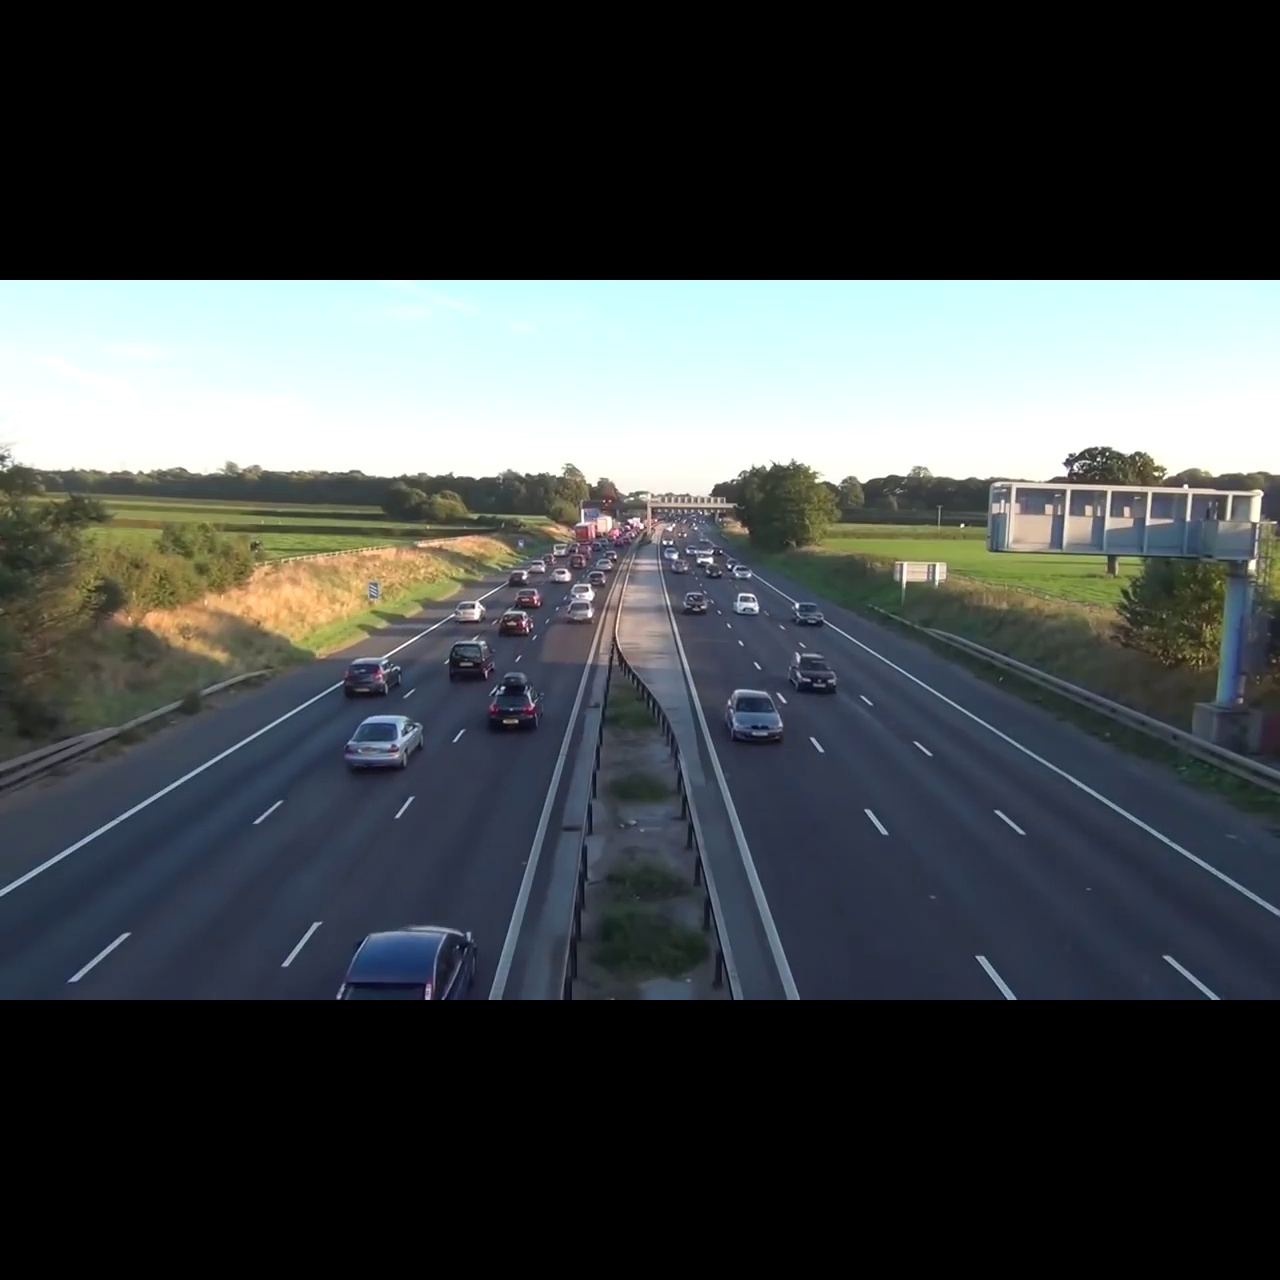vehicle: (329, 919, 485, 1000), (343, 712, 425, 775), (485, 670, 551, 734), (724, 686, 787, 748), (444, 639, 499, 690), (343, 656, 404, 702), (787, 652, 846, 695), (496, 610, 536, 638), (789, 601, 828, 629), (680, 590, 713, 617), (731, 590, 762, 617), (454, 599, 486, 624), (565, 600, 597, 625), (512, 587, 545, 610), (570, 583, 597, 599), (508, 568, 532, 586), (549, 568, 572, 584), (587, 571, 607, 587)
